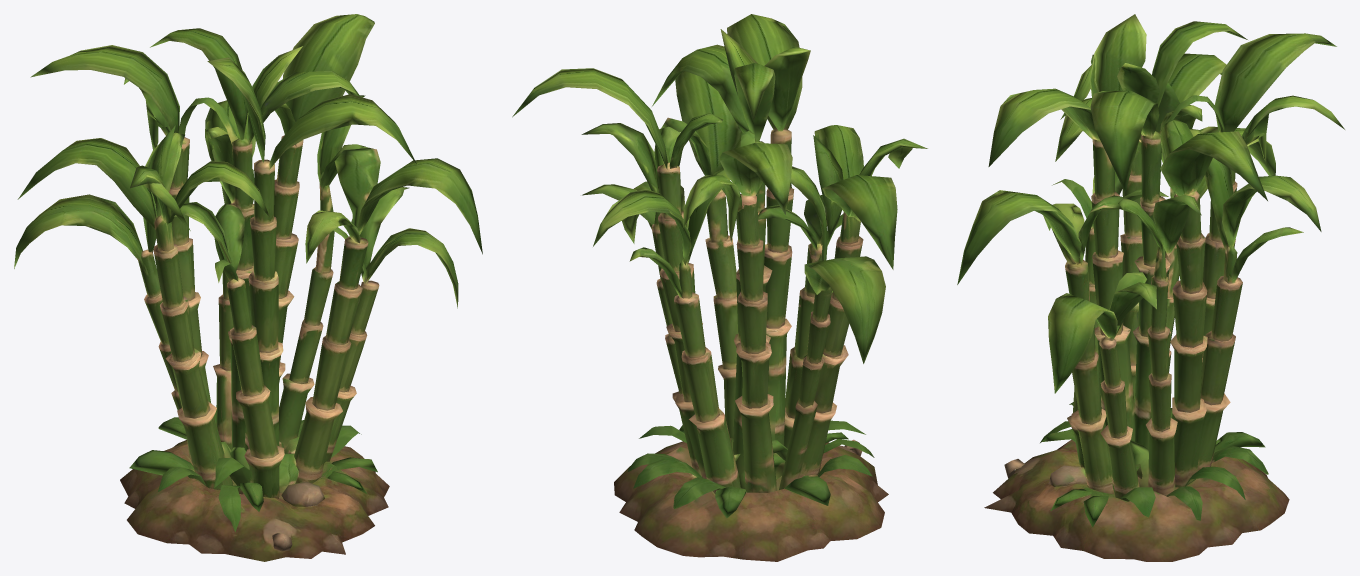
Rendered from cane.glb.
3 renders of one model, left to right at view 1: azimuth 30°, elevation 25°; view 2: azimuth 150°, elevation 25°; view 3: azimuth 270°, elevation 25°, orthographic.
Parts seen in each view (by area): view 1: cane; view 2: cane; view 3: cane.
Boxes of the visible parts, x1,y1,x2,y2 form: cane: (14,14,482,561); cane: (512,14,927,561); cane: (957,14,1344,561).
Size of the model in its own units: 0.8395 by 1 by 0.7623.
1 material, 1 textured.
